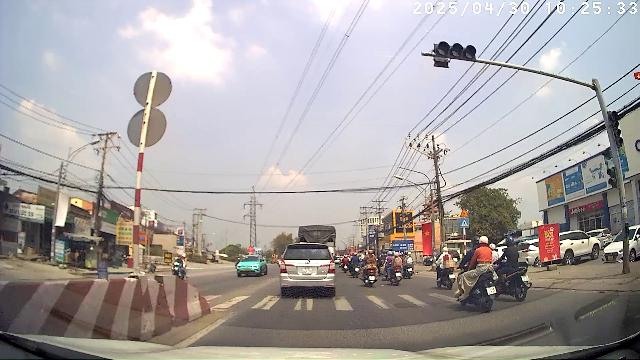423a-duong-nguoi-di-bo-sang-ngang-1: (460, 218, 469, 228)
